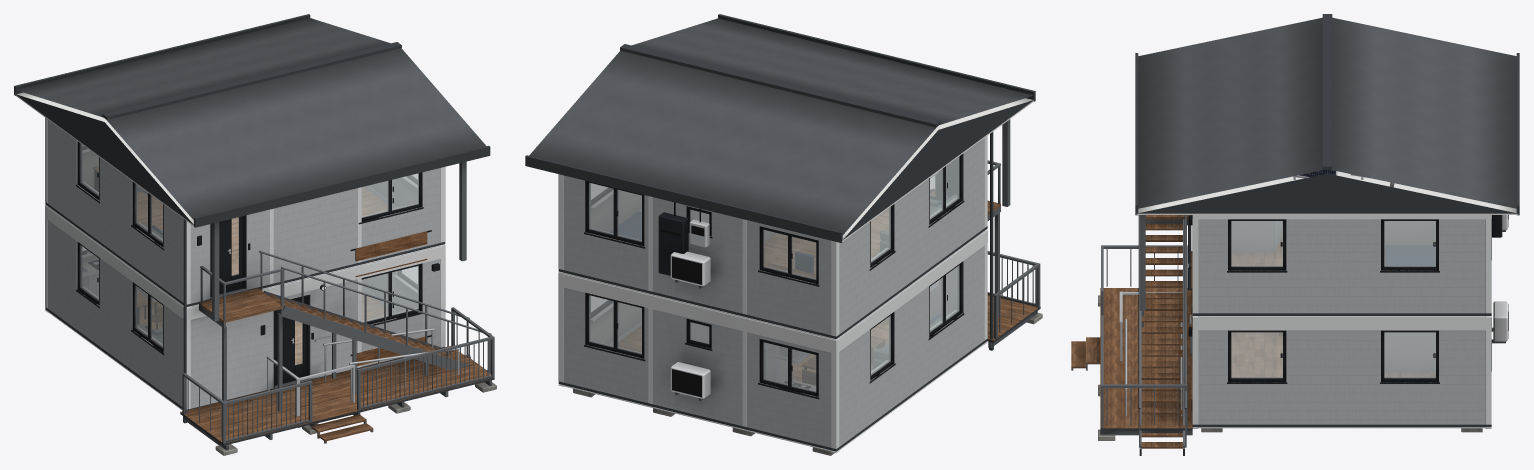
Rendered from Duplex20_Production.glb.
The picture shows the model from 3 angles, left to right: view 1: azimuth 30°, elevation 25°; view 2: azimuth 150°, elevation 25°; view 3: azimuth 270°, elevation 25°; orthographic projection. The views are drawn at different scales.
Parts seen in each view (by area): view 1: RoofSlopingUpgrade, ExteriorPanelsStandard, TopFrame, TerraceDeck, WindowsStandard, WindowsLargeUpgrade, EntryDoor, FloorSPCUpgrade, InteriorWalls, ExteriorPanelsPremium, AccessibilityVillage, FurnitureStaging (+2 smaller); view 2: RoofSlopingUpgrade, ExteriorPanelsStandard, WindowsStandard, WindowsLargeUpgrade, TopFrame, InteriorWalls, TerraceDeck, HVACIndoorUnit, FloorSPCUpgrade, FurnitureStaging, SolarPrep, BaseFrame (+3 smaller); view 3: RoofSlopingUpgrade, ExteriorPanelsStandard, TopFrame, WindowsStandard, TerraceDeck, WindowsLargeUpgrade, InteriorWalls, FloorSPCUpgrade, RoofMain, BaseFrame, FurnitureStaging, HVACIndoorUnit (+2 smaller).
Boxes of the visible parts, x1,y1,x2,y2 form: RoofSlopingUpgrade: [14, 14, 490, 321]; ExteriorPanelsStandard: [47, 120, 440, 408]; TopFrame: [45, 117, 491, 424]; TerraceDeck: [180, 307, 496, 455]; WindowsStandard: [76, 141, 430, 354]; WindowsLargeUpgrade: [77, 144, 431, 355]; EntryDoor: [210, 215, 311, 388]; FloorSPCUpgrade: [137, 187, 393, 364]; InteriorWalls: [82, 151, 417, 311]; ExteriorPanelsPremium: [355, 231, 427, 365]; AccessibilityVillage: [266, 347, 459, 427]; FurnitureStaging: [93, 166, 162, 343]; RoofSlopingUpgrade: [525, 14, 1035, 242]; ExteriorPanelsStandard: [563, 138, 984, 448]; WindowsStandard: [584, 154, 964, 399]; WindowsLargeUpgrade: [585, 154, 962, 395]; TopFrame: [558, 136, 1000, 448]; InteriorWalls: [590, 190, 957, 378]; TerraceDeck: [987, 251, 1042, 348]; HVACIndoorUnit: [670, 172, 938, 401]; FloorSPCUpgrade: [618, 208, 888, 381]; FurnitureStaging: [610, 195, 957, 385]; SolarPrep: [658, 202, 709, 275]; BaseFrame: [558, 338, 987, 453]; RoofSlopingUpgrade: [1135, 14, 1519, 310]; ExteriorPanelsStandard: [1198, 219, 1485, 424]; TopFrame: [1138, 215, 1491, 455]; WindowsStandard: [1227, 219, 1491, 383]; TerraceDeck: [1071, 245, 1192, 440]; WindowsLargeUpgrade: [1228, 219, 1438, 381]; InteriorWalls: [1231, 221, 1435, 371]; FloorSPCUpgrade: [1231, 221, 1435, 376]; RoofMain: [1188, 215, 1491, 290]; BaseFrame: [1192, 424, 1491, 428]; FurnitureStaging: [1279, 245, 1435, 335]; HVACIndoorUnit: [1491, 215, 1508, 343].
Bounding box in the file's own units: 7.53 × 6.59 × 9.24.
47 materials, 21 textured.
